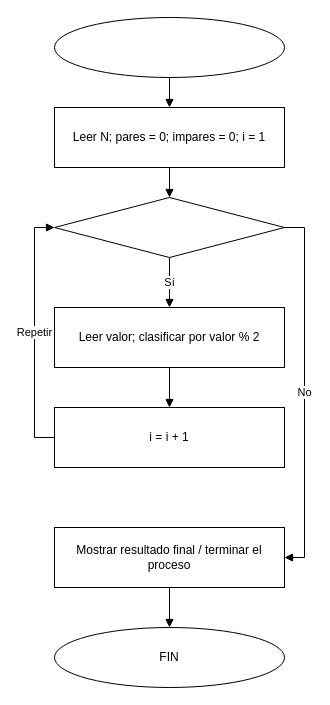
The diagram is 330 pixels wide and 705 high, and some of its shapes have lost their labels. The centre of each missing label's shape, as x and y in pixels:
INICIO · Ejercicio 80: the point at 169,47
¿i <= N?: the point at 169,227
